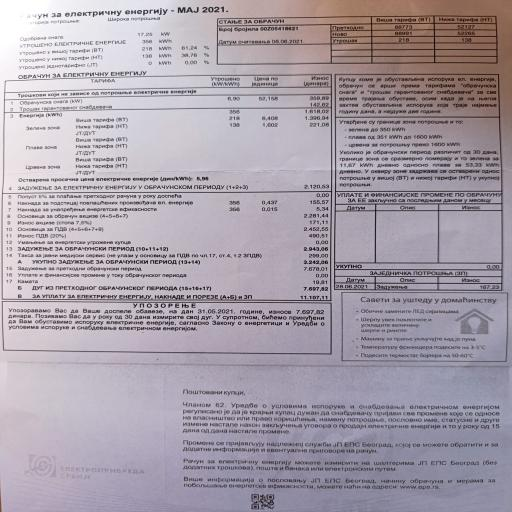racun_za_struju: (1, 70, 333, 193)
